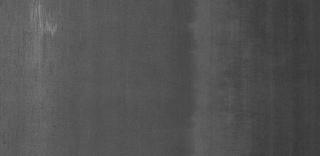silk spot: (23, 4, 62, 44)
